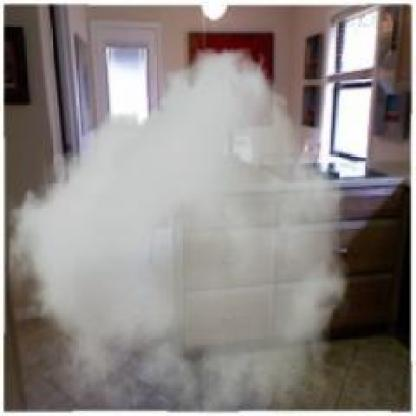Smoke: (10, 49, 349, 414)
